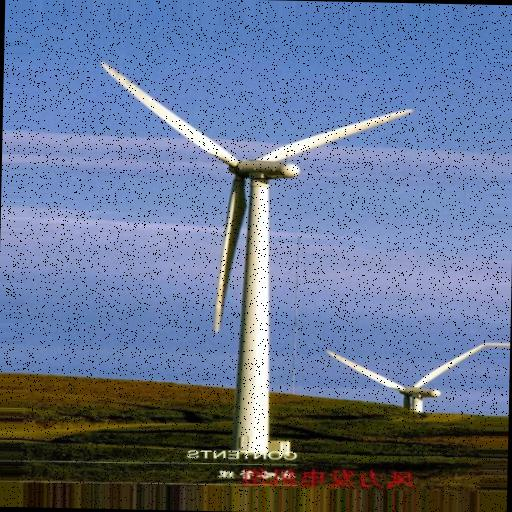wind turbine: (100, 62, 415, 466)
